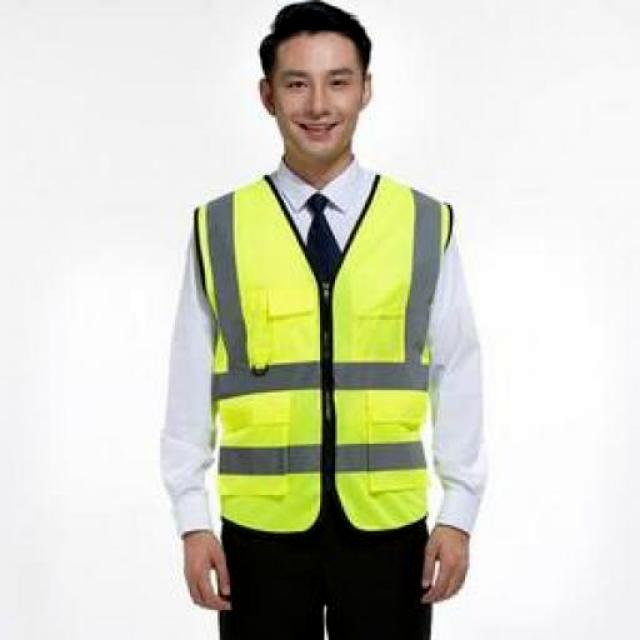no_head_wear: (260, 0, 370, 76)
person: (161, 0, 486, 639)
